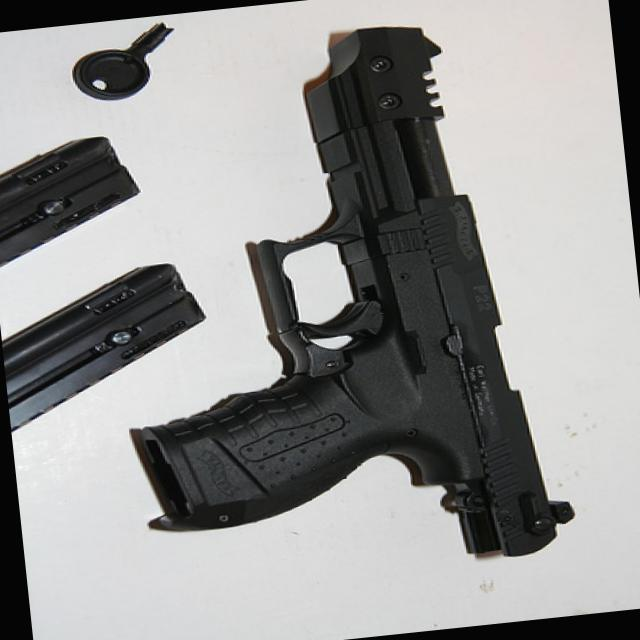handgun: (87, 9, 580, 594)
